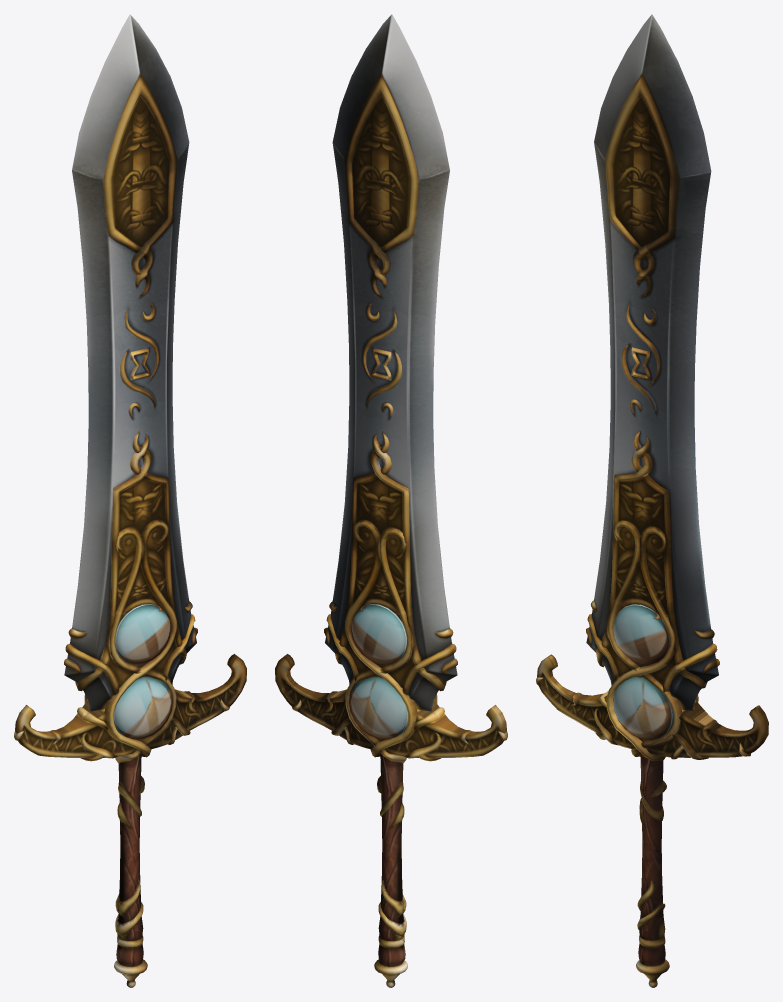
The model's file is sm_sword_164.gltf.
3 views of the same model, side by side, from view 1: azimuth 30°, elevation 25°; view 2: azimuth 150°, elevation 25°; view 3: azimuth 330°, elevation 25° (orthographic).
Visible parts, largest first — view 1: SM_Sword_164; view 2: SM_Sword_164; view 3: SM_Sword_164.
Boxes of the visible parts, x1=… form: SM_Sword_164: x1=14, y1=14, x2=246, y2=987; SM_Sword_164: x1=275, y1=14, x2=507, y2=987; SM_Sword_164: x1=536, y1=14, x2=768, y2=987.
Size of the model in its own units: 0.3727 by 1.5 by 0.0936.
Materials: 1 (1 with a texture image).
